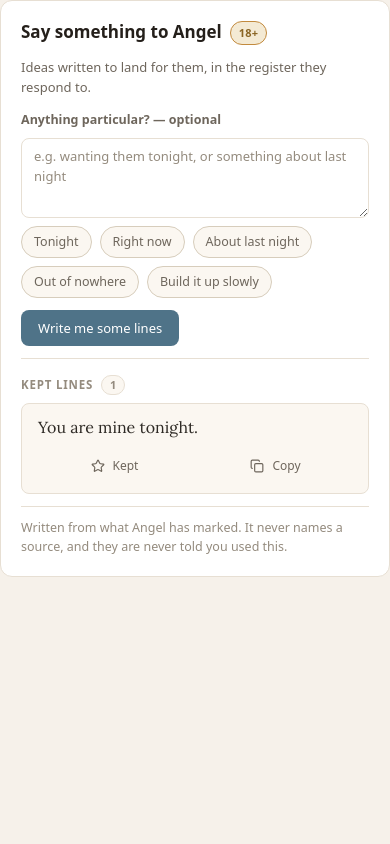
Test: SayLines (75) › AI-off says so, and the kept list still reads (§7.4)
The image size is (390, 844).
Expected: the text "You are mine tonight." is shown, x1=38 y1=417 x2=198 y2=437
Click the button "Write me some lines".
click(100, 328)  # box x1=21 y1=310 x2=179 y2=346
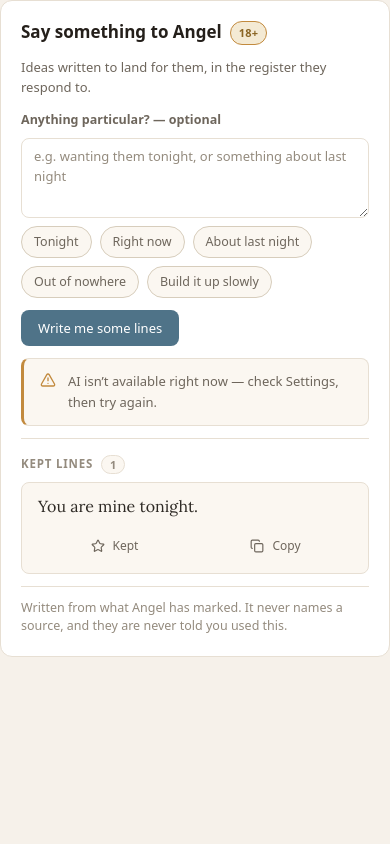
Expected: the text "You are mine tonight." is shown, x1=38 y1=496 x2=198 y2=516
Expected: the text "AI isn’t available right now — check Settings, then try again." is shown, x1=68 y1=371 x2=352 y2=413
